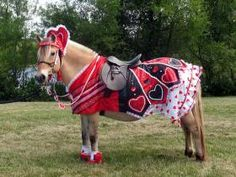Horse: (28, 22, 214, 168)
